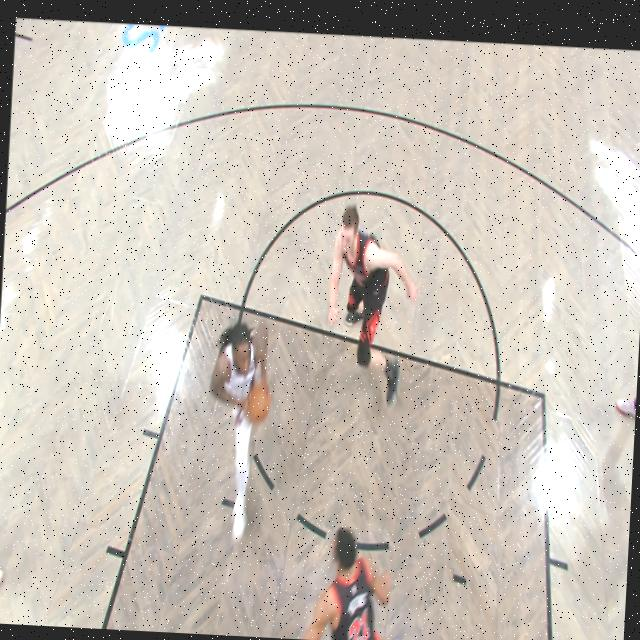no foul: (170, 158, 439, 531)
